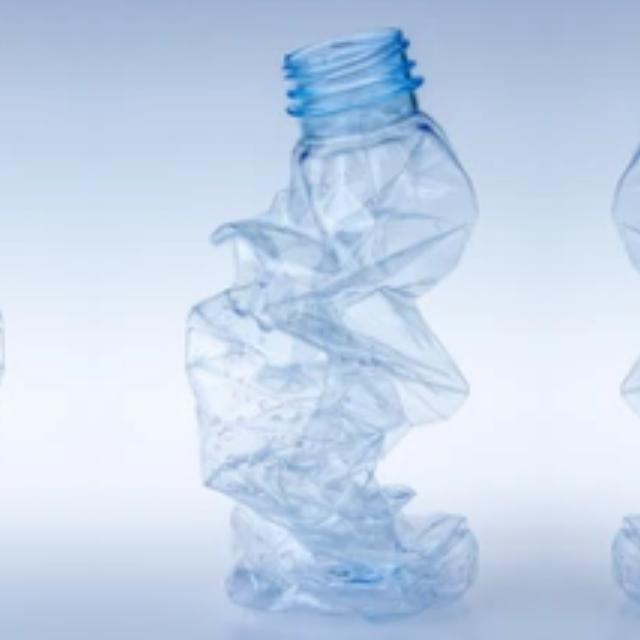Plastic: (165, 26, 513, 614), (577, 26, 640, 613), (0, 26, 23, 613)
